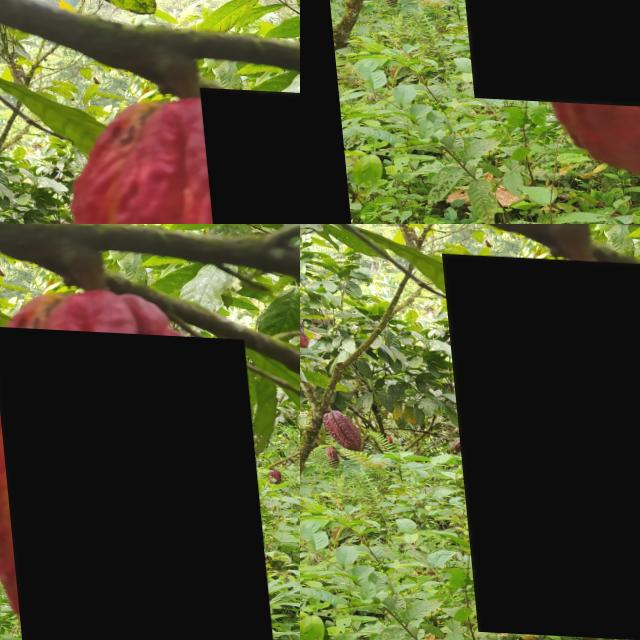Fitoftora: (0, 324, 268, 640), (378, 43, 394, 66), (457, 28, 465, 48)
Monilia: (196, 83, 300, 224)
Sana: (438, 251, 640, 640), (435, 0, 640, 105), (315, 410, 357, 452), (318, 446, 332, 469)
